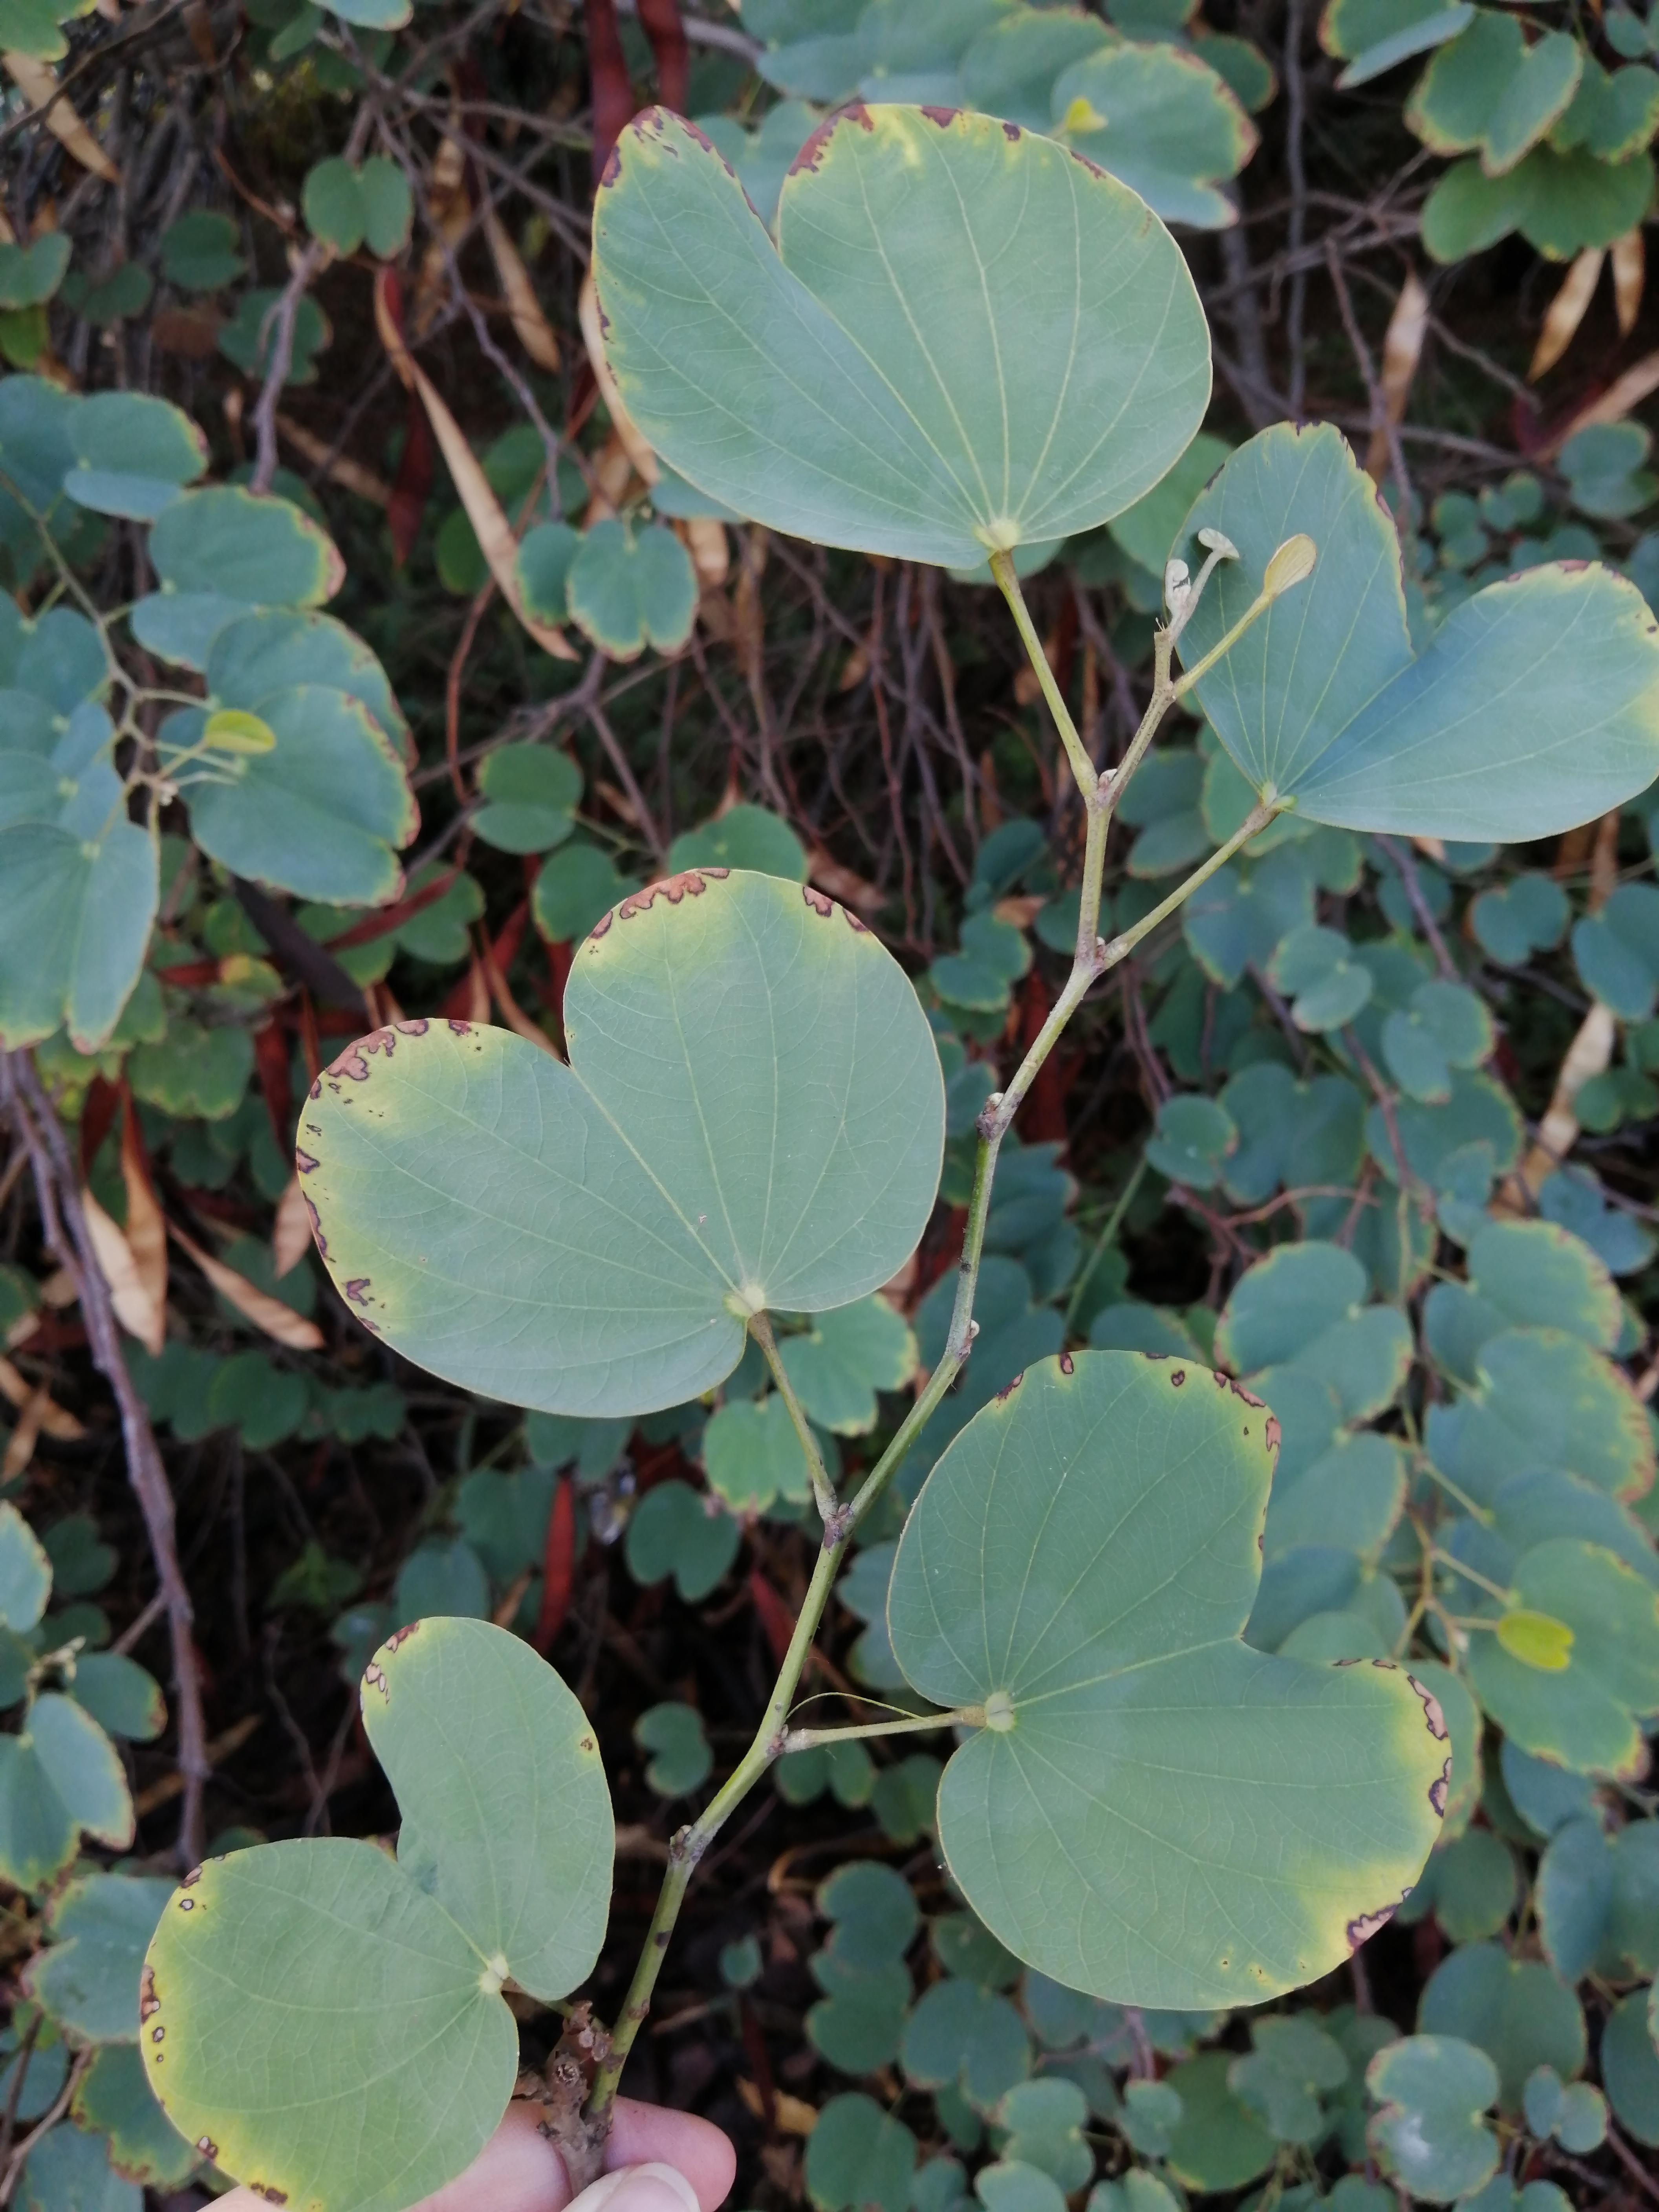nothealthy: (256, 838, 1009, 1411), (918, 1339, 1476, 2026), (129, 1629, 662, 2212), (592, 51, 1162, 573), (1168, 411, 1659, 937)
